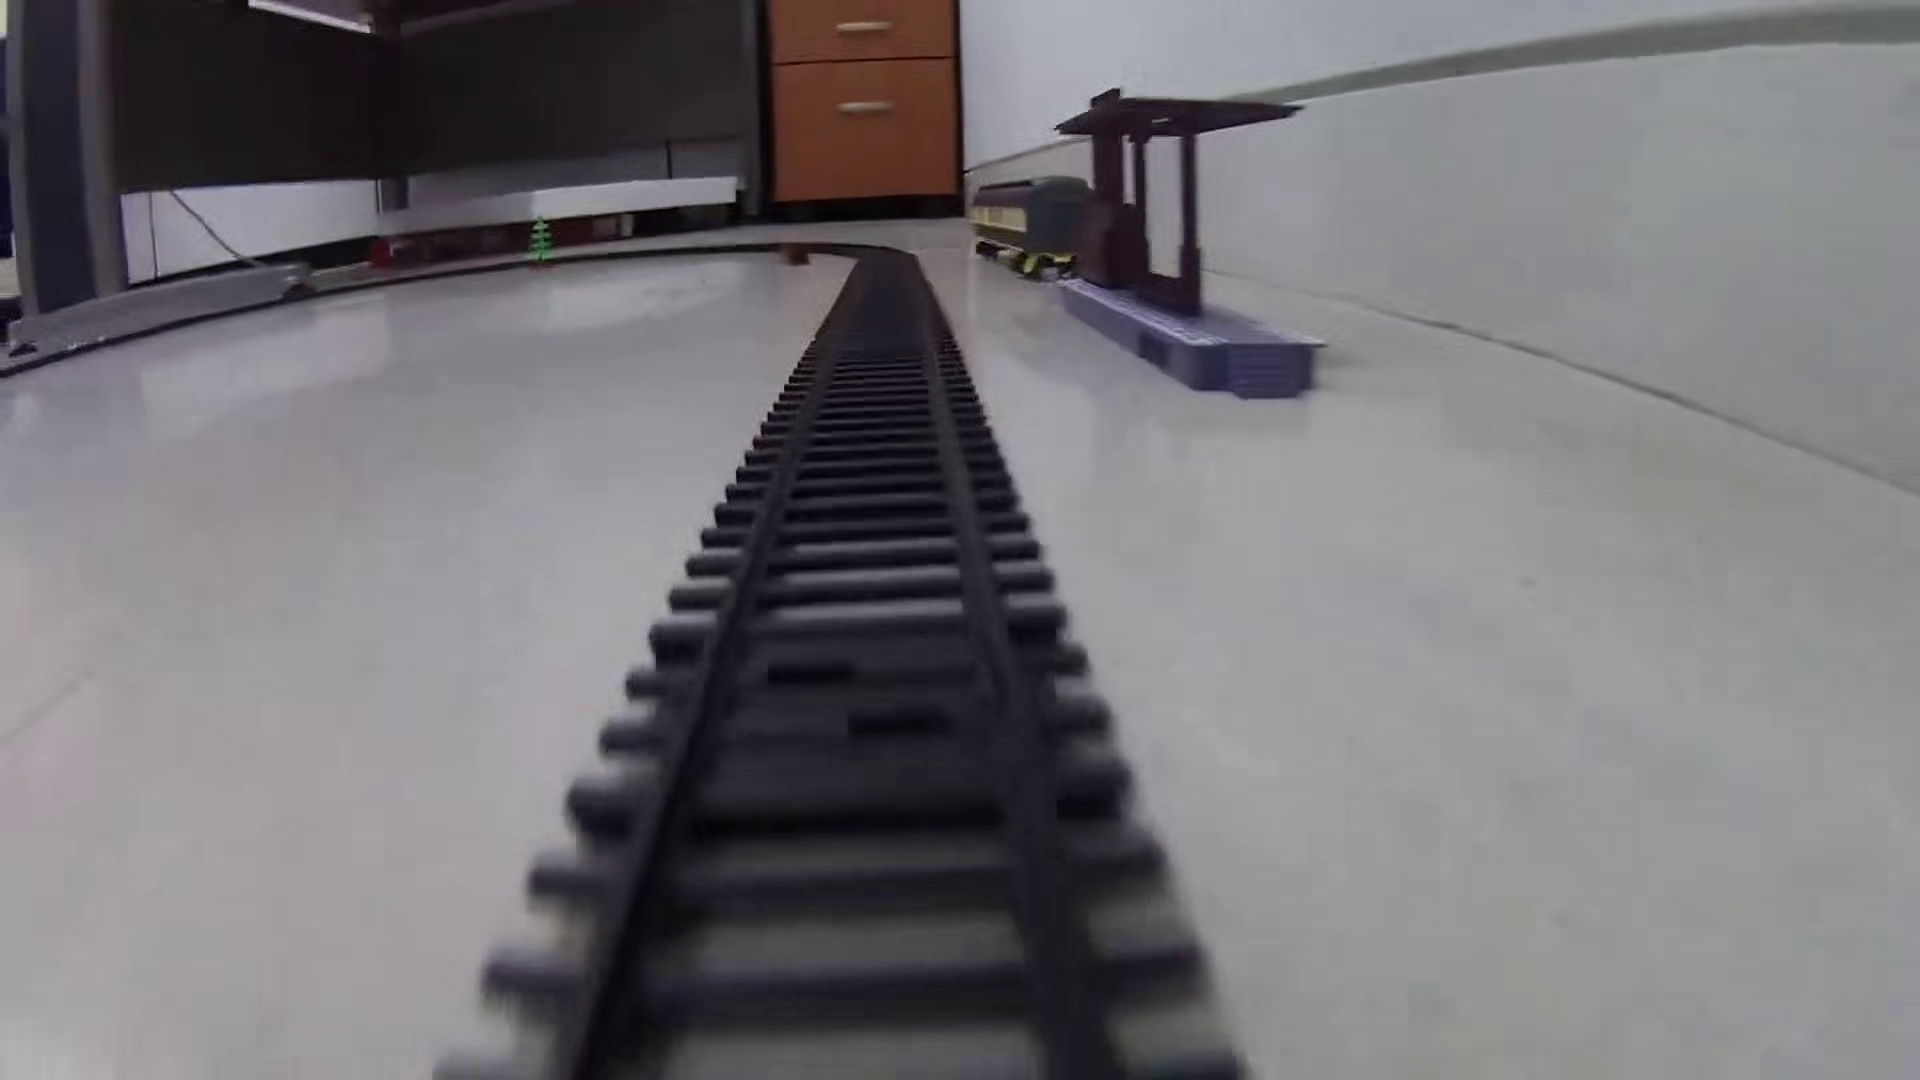box: (778, 242, 812, 268)
tree: (525, 211, 560, 274)
